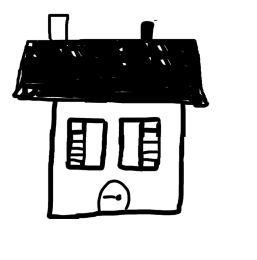chimney: (47, 7, 72, 45), (135, 13, 156, 45)
closed_window: (115, 113, 168, 174), (63, 113, 113, 174)
door: (89, 177, 138, 220)
shaded_roof: (8, 34, 214, 110)
wall: (37, 100, 194, 229)
